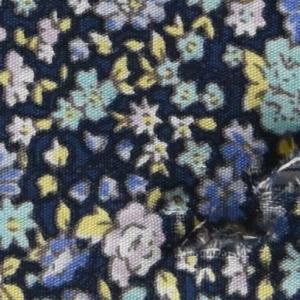Damage: (153, 133, 300, 300)
